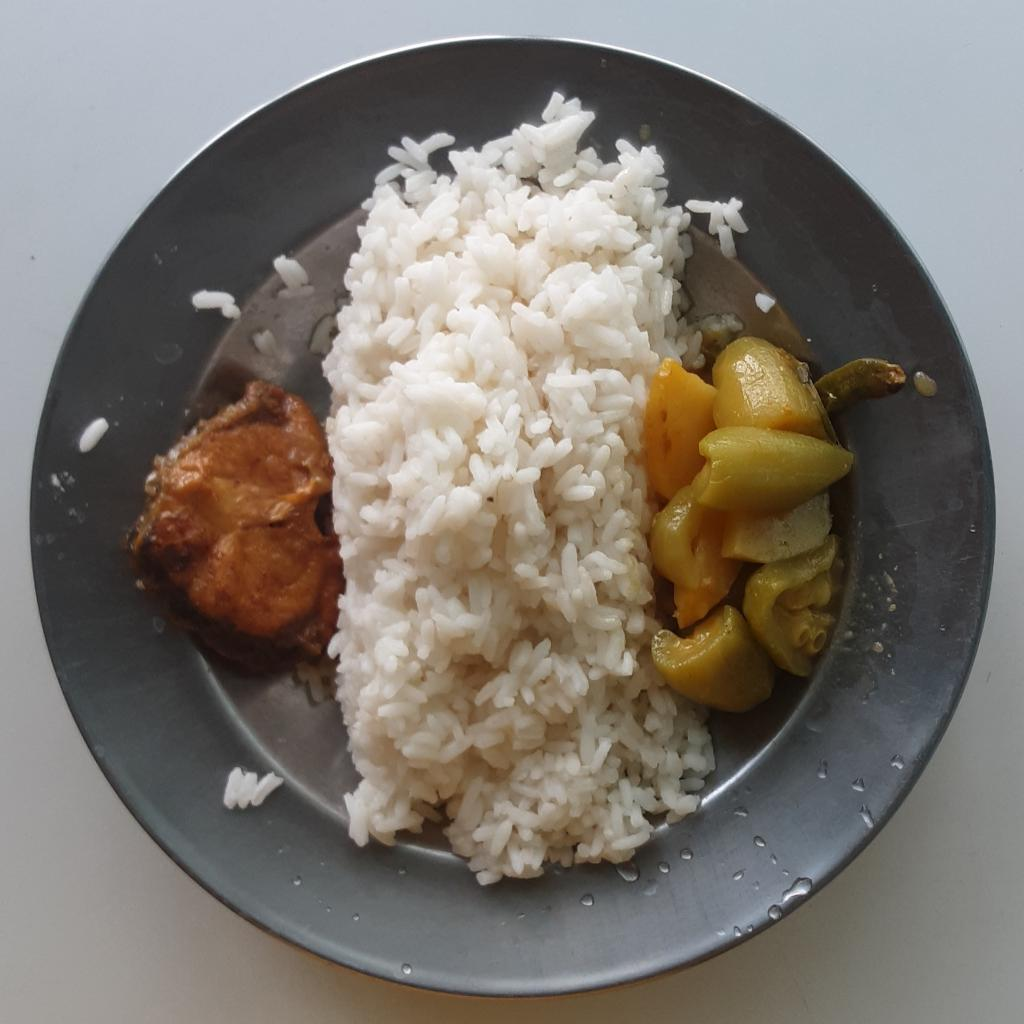fish: (125, 378, 344, 675)
potato: (641, 363, 711, 505), (728, 498, 833, 560)
potol: (645, 337, 911, 713)
rice: (318, 92, 715, 877)
